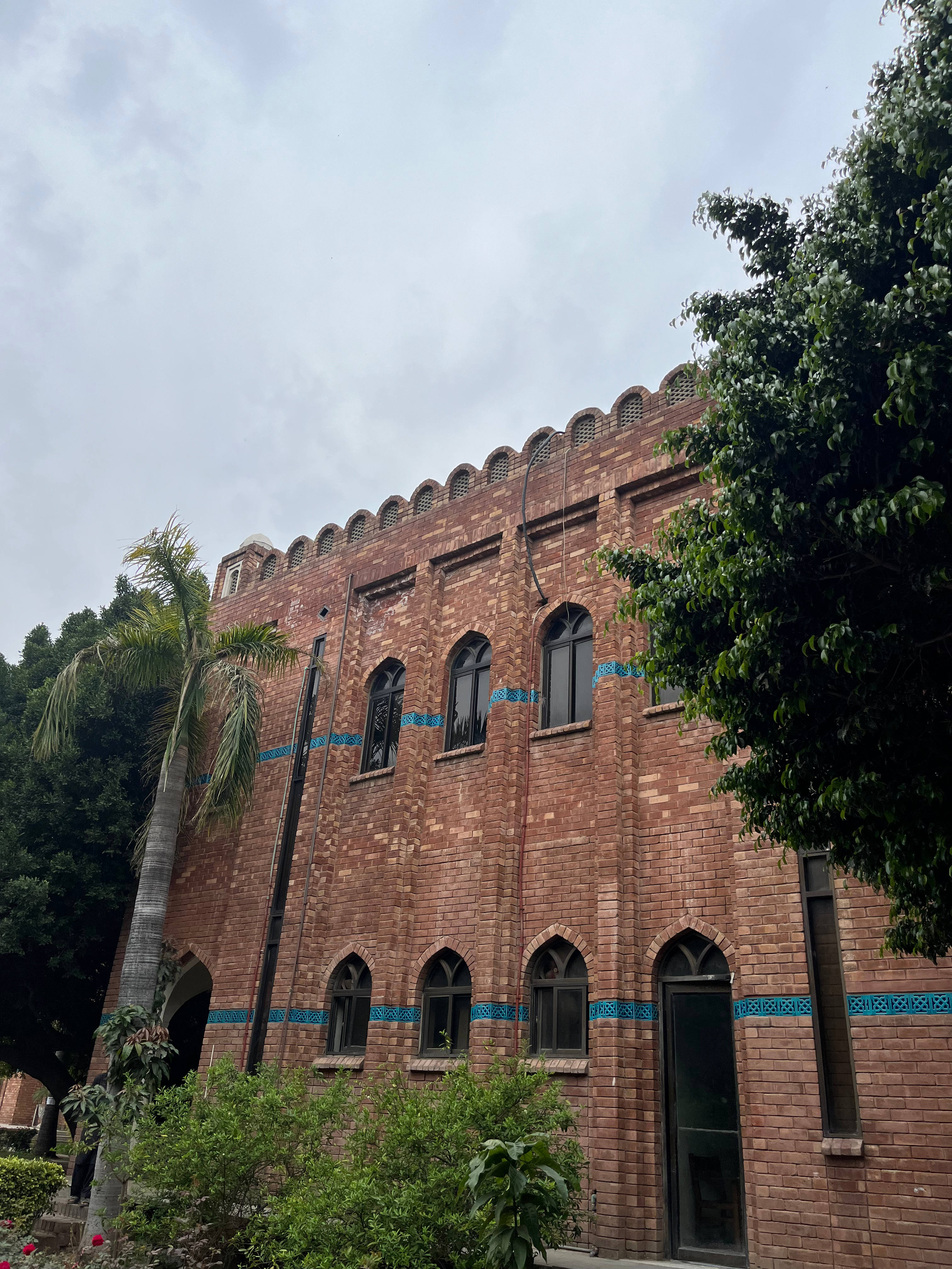Block B: (0, 348, 950, 1269)
